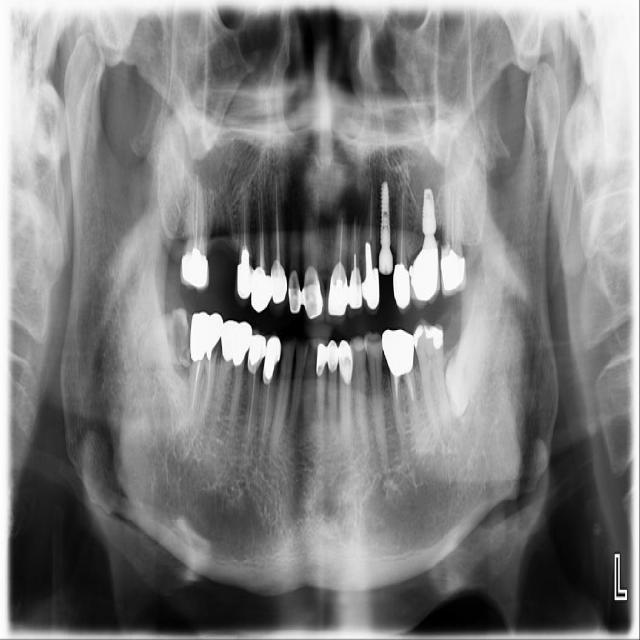52: (323, 242, 380, 326), (230, 246, 295, 319), (186, 309, 254, 369), (245, 326, 283, 386), (288, 266, 326, 324), (408, 247, 442, 310), (313, 337, 356, 385), (380, 329, 415, 378), (412, 318, 444, 364), (165, 316, 192, 368), (179, 248, 209, 294), (391, 262, 412, 315), (203, 340, 220, 366)
73: (438, 157, 464, 259), (388, 360, 423, 435), (182, 173, 210, 261), (185, 354, 218, 421), (255, 361, 279, 450), (239, 361, 263, 444), (362, 179, 381, 283), (233, 180, 253, 269), (253, 184, 271, 277), (271, 170, 286, 277), (393, 183, 408, 273), (331, 208, 348, 285), (350, 213, 361, 282), (613, 562, 623, 570)
BioHorizons Implant: (433, 158, 468, 299)
Biomet 3i Implant: (428, 307, 508, 419)
Blue Sky Bio Implant: (412, 316, 452, 434)
Caries: (177, 172, 210, 294)
Implant: (177, 309, 224, 419)
Keystone Dental Implant: (136, 307, 192, 372)
